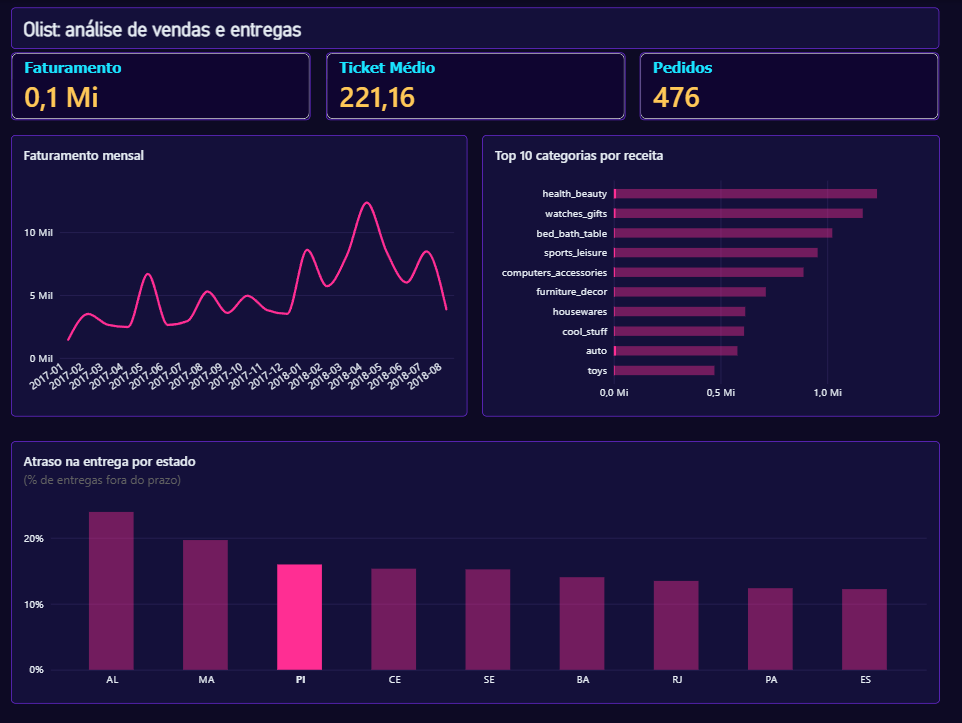

The dashboard page shown, as its layout file describes it:
{"tool":"powerbi","page":{"name":"Página 1","canvas":[1920,1080],"ordinal":0},"visuals":[{"type":"cardVisual","fields":{"Data":["olist_orders_dataset.Faturamento"]},"box":[20,70,400,90],"z":1},{"type":"cardVisual","fields":{"Data":["olist_orders_dataset.Pedidos"]},"box":[860,70,400,90],"z":2},{"type":"cardVisual","fields":{"Data":["olist_orders_dataset.Ticket Médio"]},"box":[440,70,400,90],"z":3},{"type":"lineChart","title":"Faturamento mensal","fields":{"Category":["olist_orders_dataset.Mes"],"Y":["olist_orders_dataset.Faturamento"]},"box":[20,180.3,609.5,375.7],"z":4},{"type":"barChart","title":"Top 10 categorias por receita","fields":{"Category":["product_category_name_translation.product_category_name_english"],"Y":["olist_orders_dataset.Receita Produtos"]},"box":[649.5,180.3,611.1,375.7],"z":5},{"type":"columnChart","title":"Atraso na entrega por estado","fields":{"Category":["olist_customers_dataset.customer_state"],"Y":["olist_orders_dataset.% Atraso"]},"box":[20,589.4,1240.6,350.7],"z":6},{"type":"cardVisual","fields":{"Data":["olist_orders_dataset.Título"]},"box":[20,10,1240,55],"z":7}]}

Visuals, with their boxes on the page's 1920x1080 design canvas (x1, y1, x2, y2). These are canvas units, not pixel positions in the 962x723 screenshot, which may show the page scaled, cropped or inside an application window:
cardVisual - olist_orders_dataset.Faturamento: locate(20, 70, 420, 160)
cardVisual - olist_orders_dataset.Pedidos: locate(860, 70, 1260, 160)
cardVisual - olist_orders_dataset.Ticket Médio: locate(440, 70, 840, 160)
"Faturamento mensal" lineChart: locate(20, 180, 630, 556)
"Top 10 categorias por receita" barChart: locate(650, 180, 1261, 556)
"Atraso na entrega por estado" columnChart: locate(20, 589, 1261, 940)
cardVisual - olist_orders_dataset.Título: locate(20, 10, 1260, 65)
